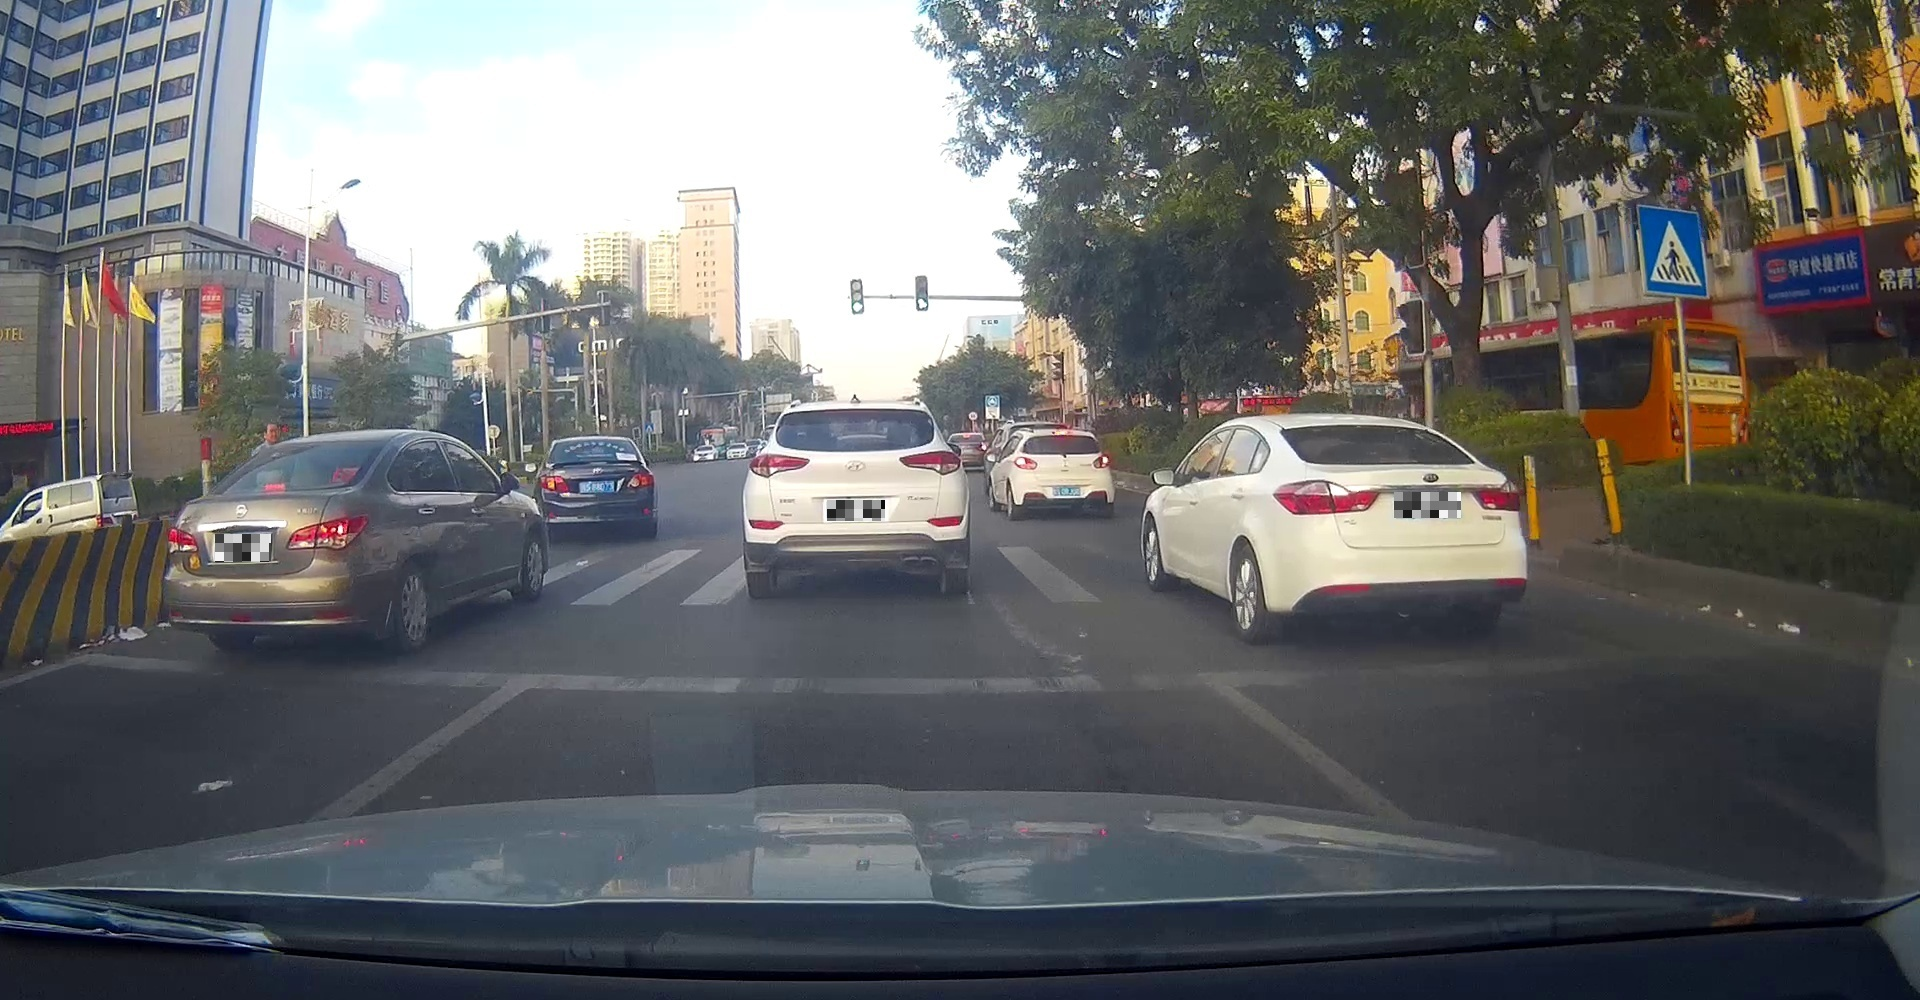L_light: (1271, 478, 1380, 515), (747, 454, 810, 477), (165, 527, 199, 555), (538, 475, 570, 492), (1015, 456, 1037, 470)
R_light: (287, 511, 370, 552), (898, 449, 964, 476), (1470, 480, 1523, 511), (625, 472, 657, 489), (1093, 454, 1111, 468)
T_light: (1379, 457, 1418, 464), (836, 410, 874, 418), (264, 480, 292, 490), (1055, 435, 1072, 440), (585, 440, 606, 443)
day-brake: (1013, 433, 1114, 518)
day-no: (1269, 423, 1528, 640), (163, 438, 391, 652), (737, 405, 968, 596), (536, 437, 657, 541)
plate_1: (215, 534, 270, 562)
plate_2: (827, 500, 885, 522)
plate_3: (1394, 492, 1462, 518)
